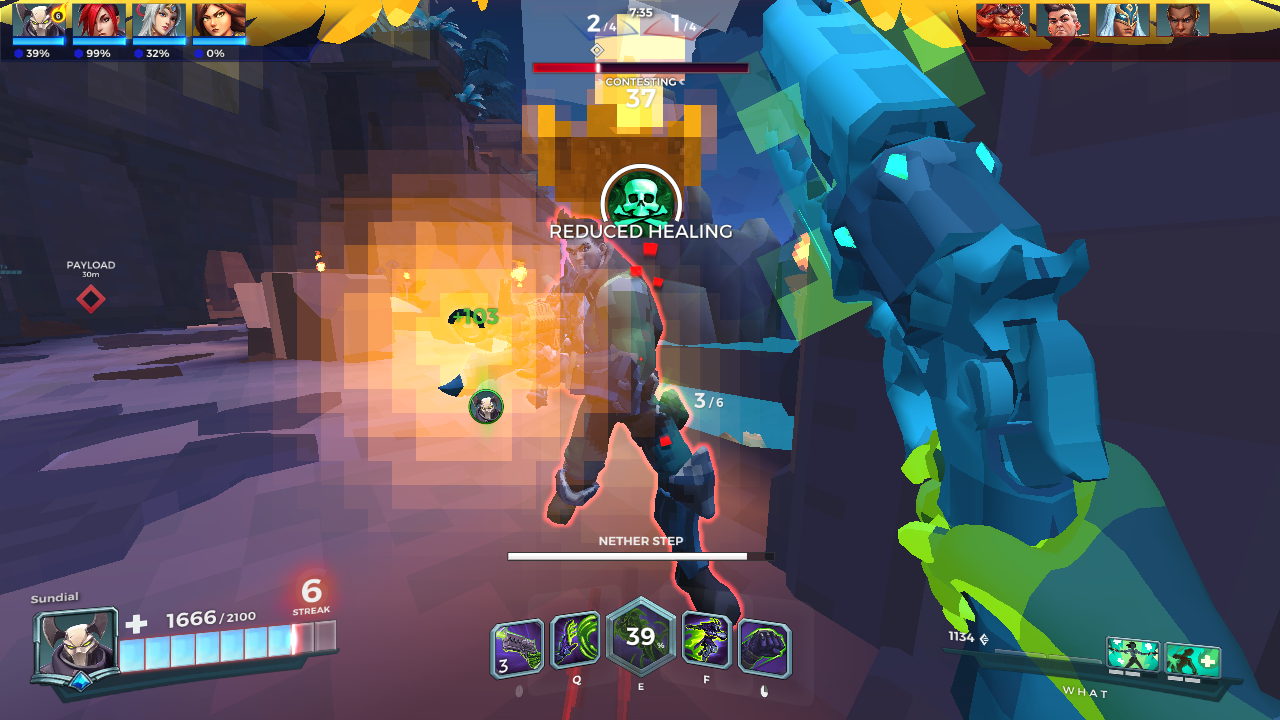model: (536, 214, 719, 601)
